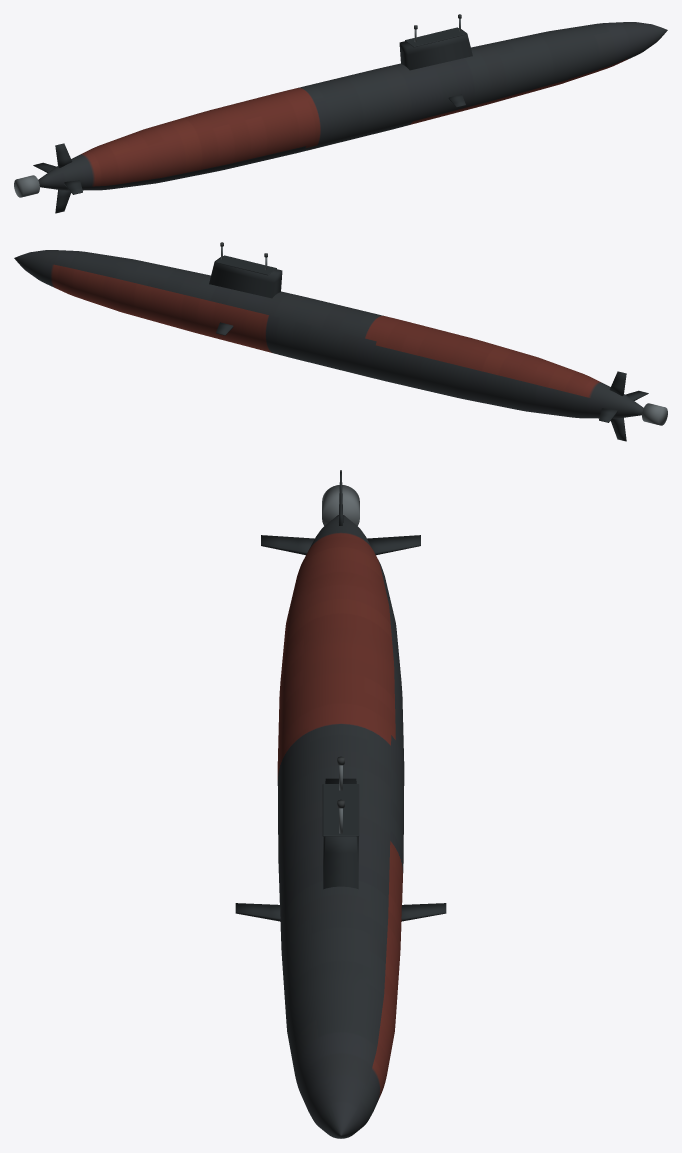
File: US_SSN_Virginia_LOD0.fbx
3 renders of one model, top to bottom at view 1: azimuth 30°, elevation 25°; view 2: azimuth 150°, elevation 25°; view 3: azimuth 270°, elevation 25°, orthographic. The views are drawn at different scales.
Parts seen in each view (by area): view 1: US_SSN_Virginia_LOD0; view 2: US_SSN_Virginia_LOD0; view 3: US_SSN_Virginia_LOD0.
Part boxes in pixels (left/top/right/bottom): US_SSN_Virginia_LOD0: left=14, top=14, right=667, bottom=213; US_SSN_Virginia_LOD0: left=14, top=242, right=667, bottom=441; US_SSN_Virginia_LOD0: left=235, top=470, right=446, bottom=1138.
Size of what is drawn, in the model's own units: 118 by 16.66 by 17.36.
Materials: 6 (1 with a texture image).
